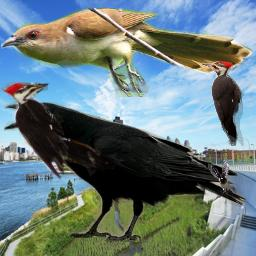Crow: (4, 102, 247, 244)
Cuckoo: (1, 8, 253, 97)
Swallow: (208, 157, 233, 194)
Woodpecker: (1, 82, 115, 180), (199, 61, 244, 146)
